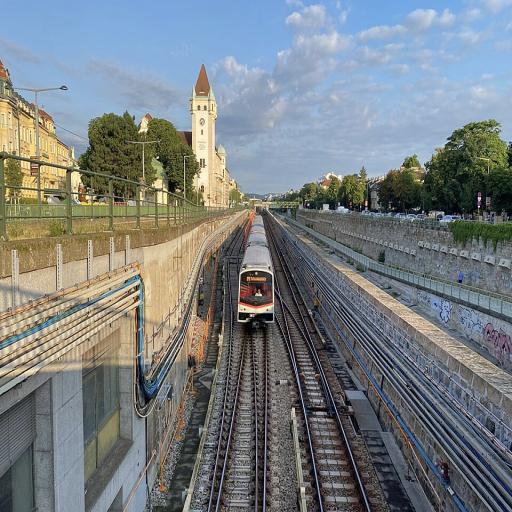V-Wagen: (234, 206, 278, 336)
